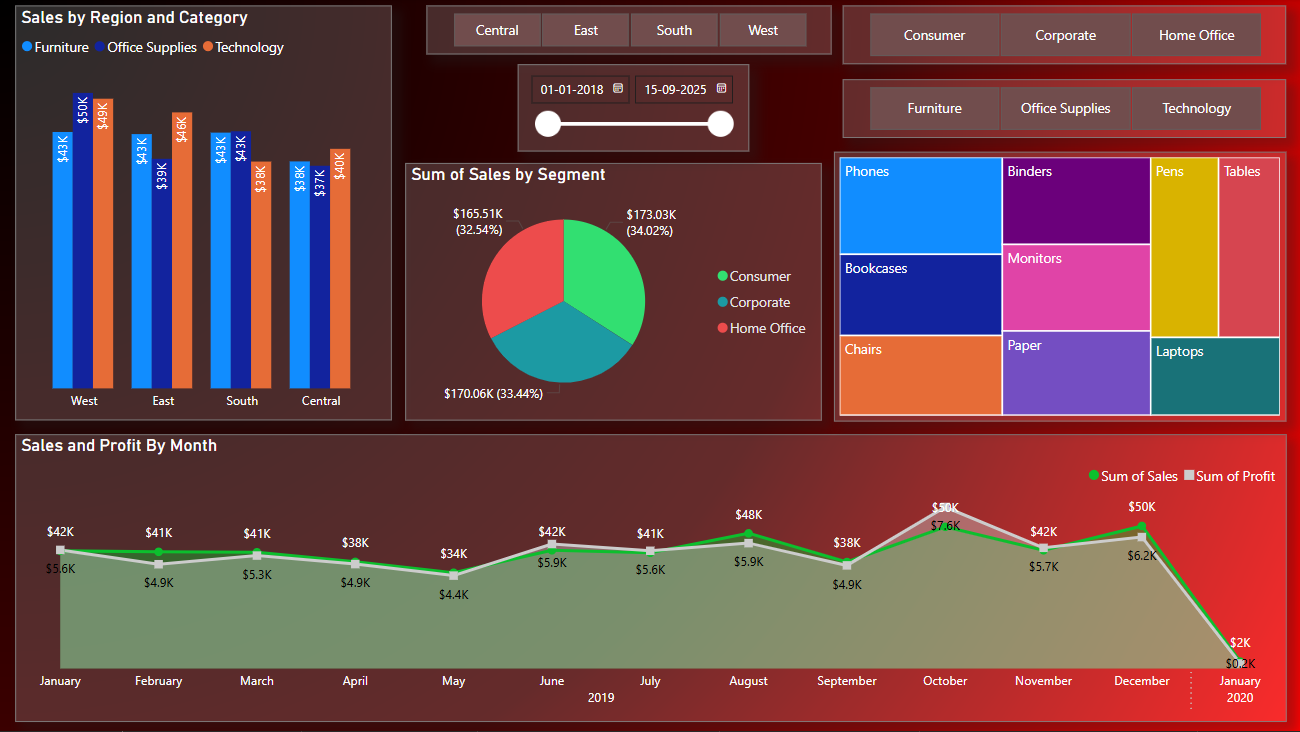

The page's visual inventory and layout, read from the dashboard file:
{"tool":"powerbi","page":{"name":"Sales Performance","canvas":[1280,720],"ordinal":1},"visuals":[{"type":"areaChart","title":"Sales and Profit By Month","fields":{"Y":["Sum(Sample_SalesData.Sales)"],"Y2":["Sum(Sample_SalesData.Profit)"],"Category":["DateTable.Year","DateTable.Month Name"]},"box":[16,428.2,1247.9,282.2],"z":0},{"type":"clusteredColumnChart","title":"Sales by Region and Category","fields":{"Category":["Sample_SalesData.Region"],"Y":["Sum(Sample_SalesData.Sales)"],"Series":["Sample_SalesData.Category"]},"box":[16,7.4,369.3,407.4],"z":1000},{"type":"pieChart","fields":{"Y":["Sum(Sample_SalesData.Sales)"],"Category":["Sample_SalesData.Segment"]},"box":[398.8,162,408.6,252.8],"z":2000},{"type":"treemap","fields":{"Group":["Sample_SalesData.Sub-Category"],"Values":["Sum(Sample_SalesData.Sales)"]},"box":[819.6,150.9,444.2,265],"z":3000},{"type":"slicer","fields":{"Values":["Sample_SalesData.Region"]},"box":[419.6,7.4,397.5,47.9],"z":4000},{"type":"slicer","fields":{"Values":["Sample_SalesData.Category"]},"box":[828.2,79.8,435.6,57.7],"z":5000},{"type":"slicer","fields":{"Values":["Sample_SalesData.Segment"]},"box":[828.2,7.4,435.6,57.7],"z":6000},{"type":"slicer","fields":{"Values":["DateTable.Date"]},"box":[509.2,65,227,85.9],"z":8000}]}

Visuals, with their boxes in screenshot pixels (x1, y1, x2, y2), scaled from the page's 1280x720 canvas onto the 1300x732 screenshot:
"Sales and Profit By Month" areaChart: x1=16 y1=435 x2=1284 y2=722
"Sales by Region and Category" clusteredColumnChart: x1=16 y1=8 x2=391 y2=422
pieChart - Sum(Sample_SalesData.Sales) x Sample_SalesData.Segment: x1=405 y1=165 x2=820 y2=422
treemap - Sample_SalesData.Sub-Category x Sum(Sample_SalesData.Sales): x1=832 y1=153 x2=1284 y2=423
slicer - Sample_SalesData.Region: x1=426 y1=8 x2=830 y2=56
slicer - Sample_SalesData.Category: x1=841 y1=81 x2=1284 y2=140
slicer - Sample_SalesData.Segment: x1=841 y1=8 x2=1284 y2=66
slicer - DateTable.Date: x1=517 y1=66 x2=748 y2=153
